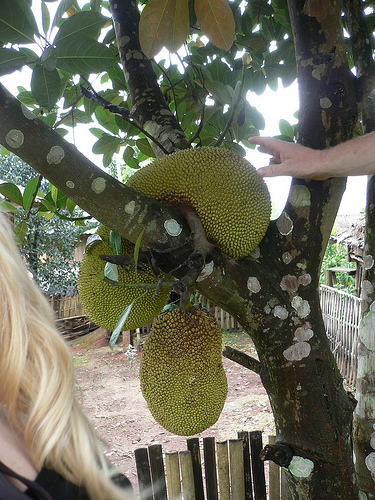jackfruit: (125, 146, 275, 260), (138, 298, 228, 435), (77, 241, 170, 332)
